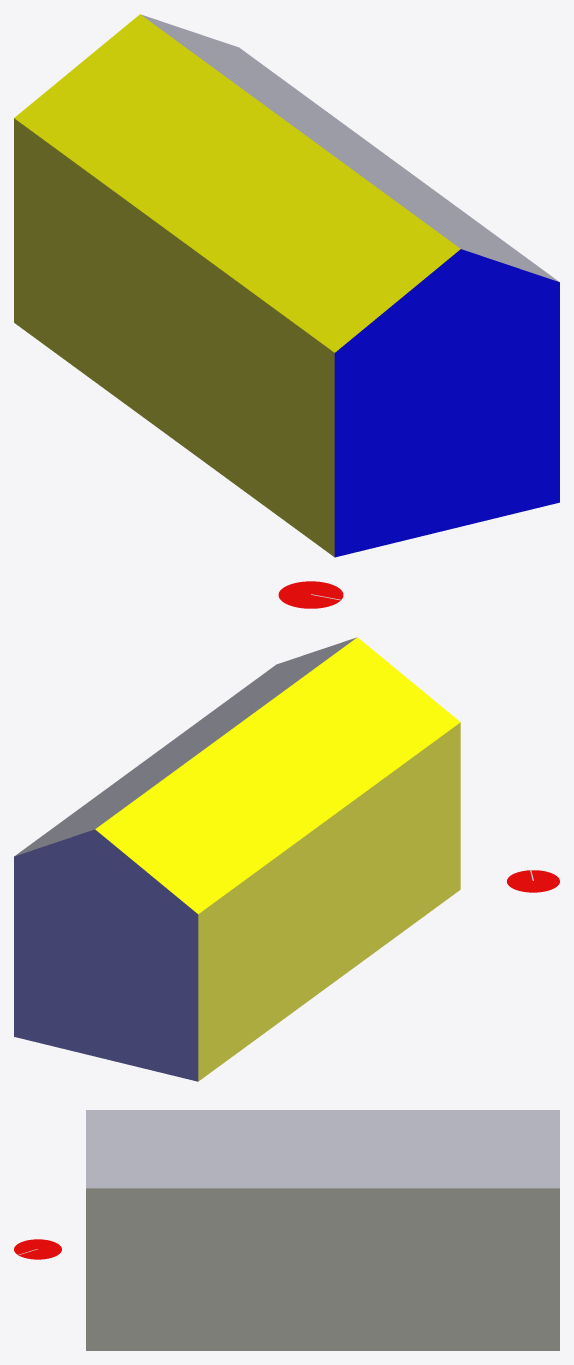
Rendered from result.glb.
The picture shows the model from 3 angles, top to bottom: view 1: azimuth 30°, elevation 25°; view 2: azimuth 150°, elevation 25°; view 3: azimuth 270°, elevation 25°; orthographic projection. The views are drawn at different scales.
Parts seen in each view (by area): view 1: 02f34d4e-2d6f-433e-bd6b-52a158750836__undefined, a7789733-187b-40e1-82ce-a2aca81e3f46__undefined, dbf2ae76-39fd-4742-8309-f438b3eb3a64__undefined, b9458b0a-87ea-4423-93c7-e0e9c7763361__undefined, f003391a-7e00-4779-a0b1-5864fb5e1f4c__Circle; view 2: 02f34d4e-2d6f-433e-bd6b-52a158750836__undefined, a7789733-187b-40e1-82ce-a2aca81e3f46__undefined, faf6382e-4bfb-4ba3-bc61-18f039cef0e9__undefined, b9458b0a-87ea-4423-93c7-e0e9c7763361__undefined, f003391a-7e00-4779-a0b1-5864fb5e1f4c__Circle; view 3: 7b238ffe-c3b4-447d-803f-a6488e29e9cb__undefined, b9458b0a-87ea-4423-93c7-e0e9c7763361__undefined, f003391a-7e00-4779-a0b1-5864fb5e1f4c__Circle.
Boxes of the visible parts, bbox=[...] form: 02f34d4e-2d6f-433e-bd6b-52a158750836__undefined: bbox=[14, 118, 334, 556]; a7789733-187b-40e1-82ce-a2aca81e3f46__undefined: bbox=[14, 14, 460, 352]; dbf2ae76-39fd-4742-8309-f438b3eb3a64__undefined: bbox=[334, 249, 559, 557]; b9458b0a-87ea-4423-93c7-e0e9c7763361__undefined: bbox=[141, 14, 558, 281]; f003391a-7e00-4779-a0b1-5864fb5e1f4c__Circle: bbox=[278, 581, 343, 608]; 02f34d4e-2d6f-433e-bd6b-52a158750836__undefined: bbox=[198, 722, 460, 1081]; a7789733-187b-40e1-82ce-a2aca81e3f46__undefined: bbox=[95, 637, 460, 914]; faf6382e-4bfb-4ba3-bc61-18f039cef0e9__undefined: bbox=[14, 829, 198, 1081]; b9458b0a-87ea-4423-93c7-e0e9c7763361__undefined: bbox=[14, 637, 356, 856]; f003391a-7e00-4779-a0b1-5864fb5e1f4c__Circle: bbox=[507, 870, 559, 892]; 7b238ffe-c3b4-447d-803f-a6488e29e9cb__undefined: bbox=[86, 1188, 559, 1350]; b9458b0a-87ea-4423-93c7-e0e9c7763361__undefined: bbox=[86, 1110, 559, 1188]; f003391a-7e00-4779-a0b1-5864fb5e1f4c__Circle: bbox=[14, 1239, 61, 1259].
Size of the model in its own units: 550 by 471 by 1137.
